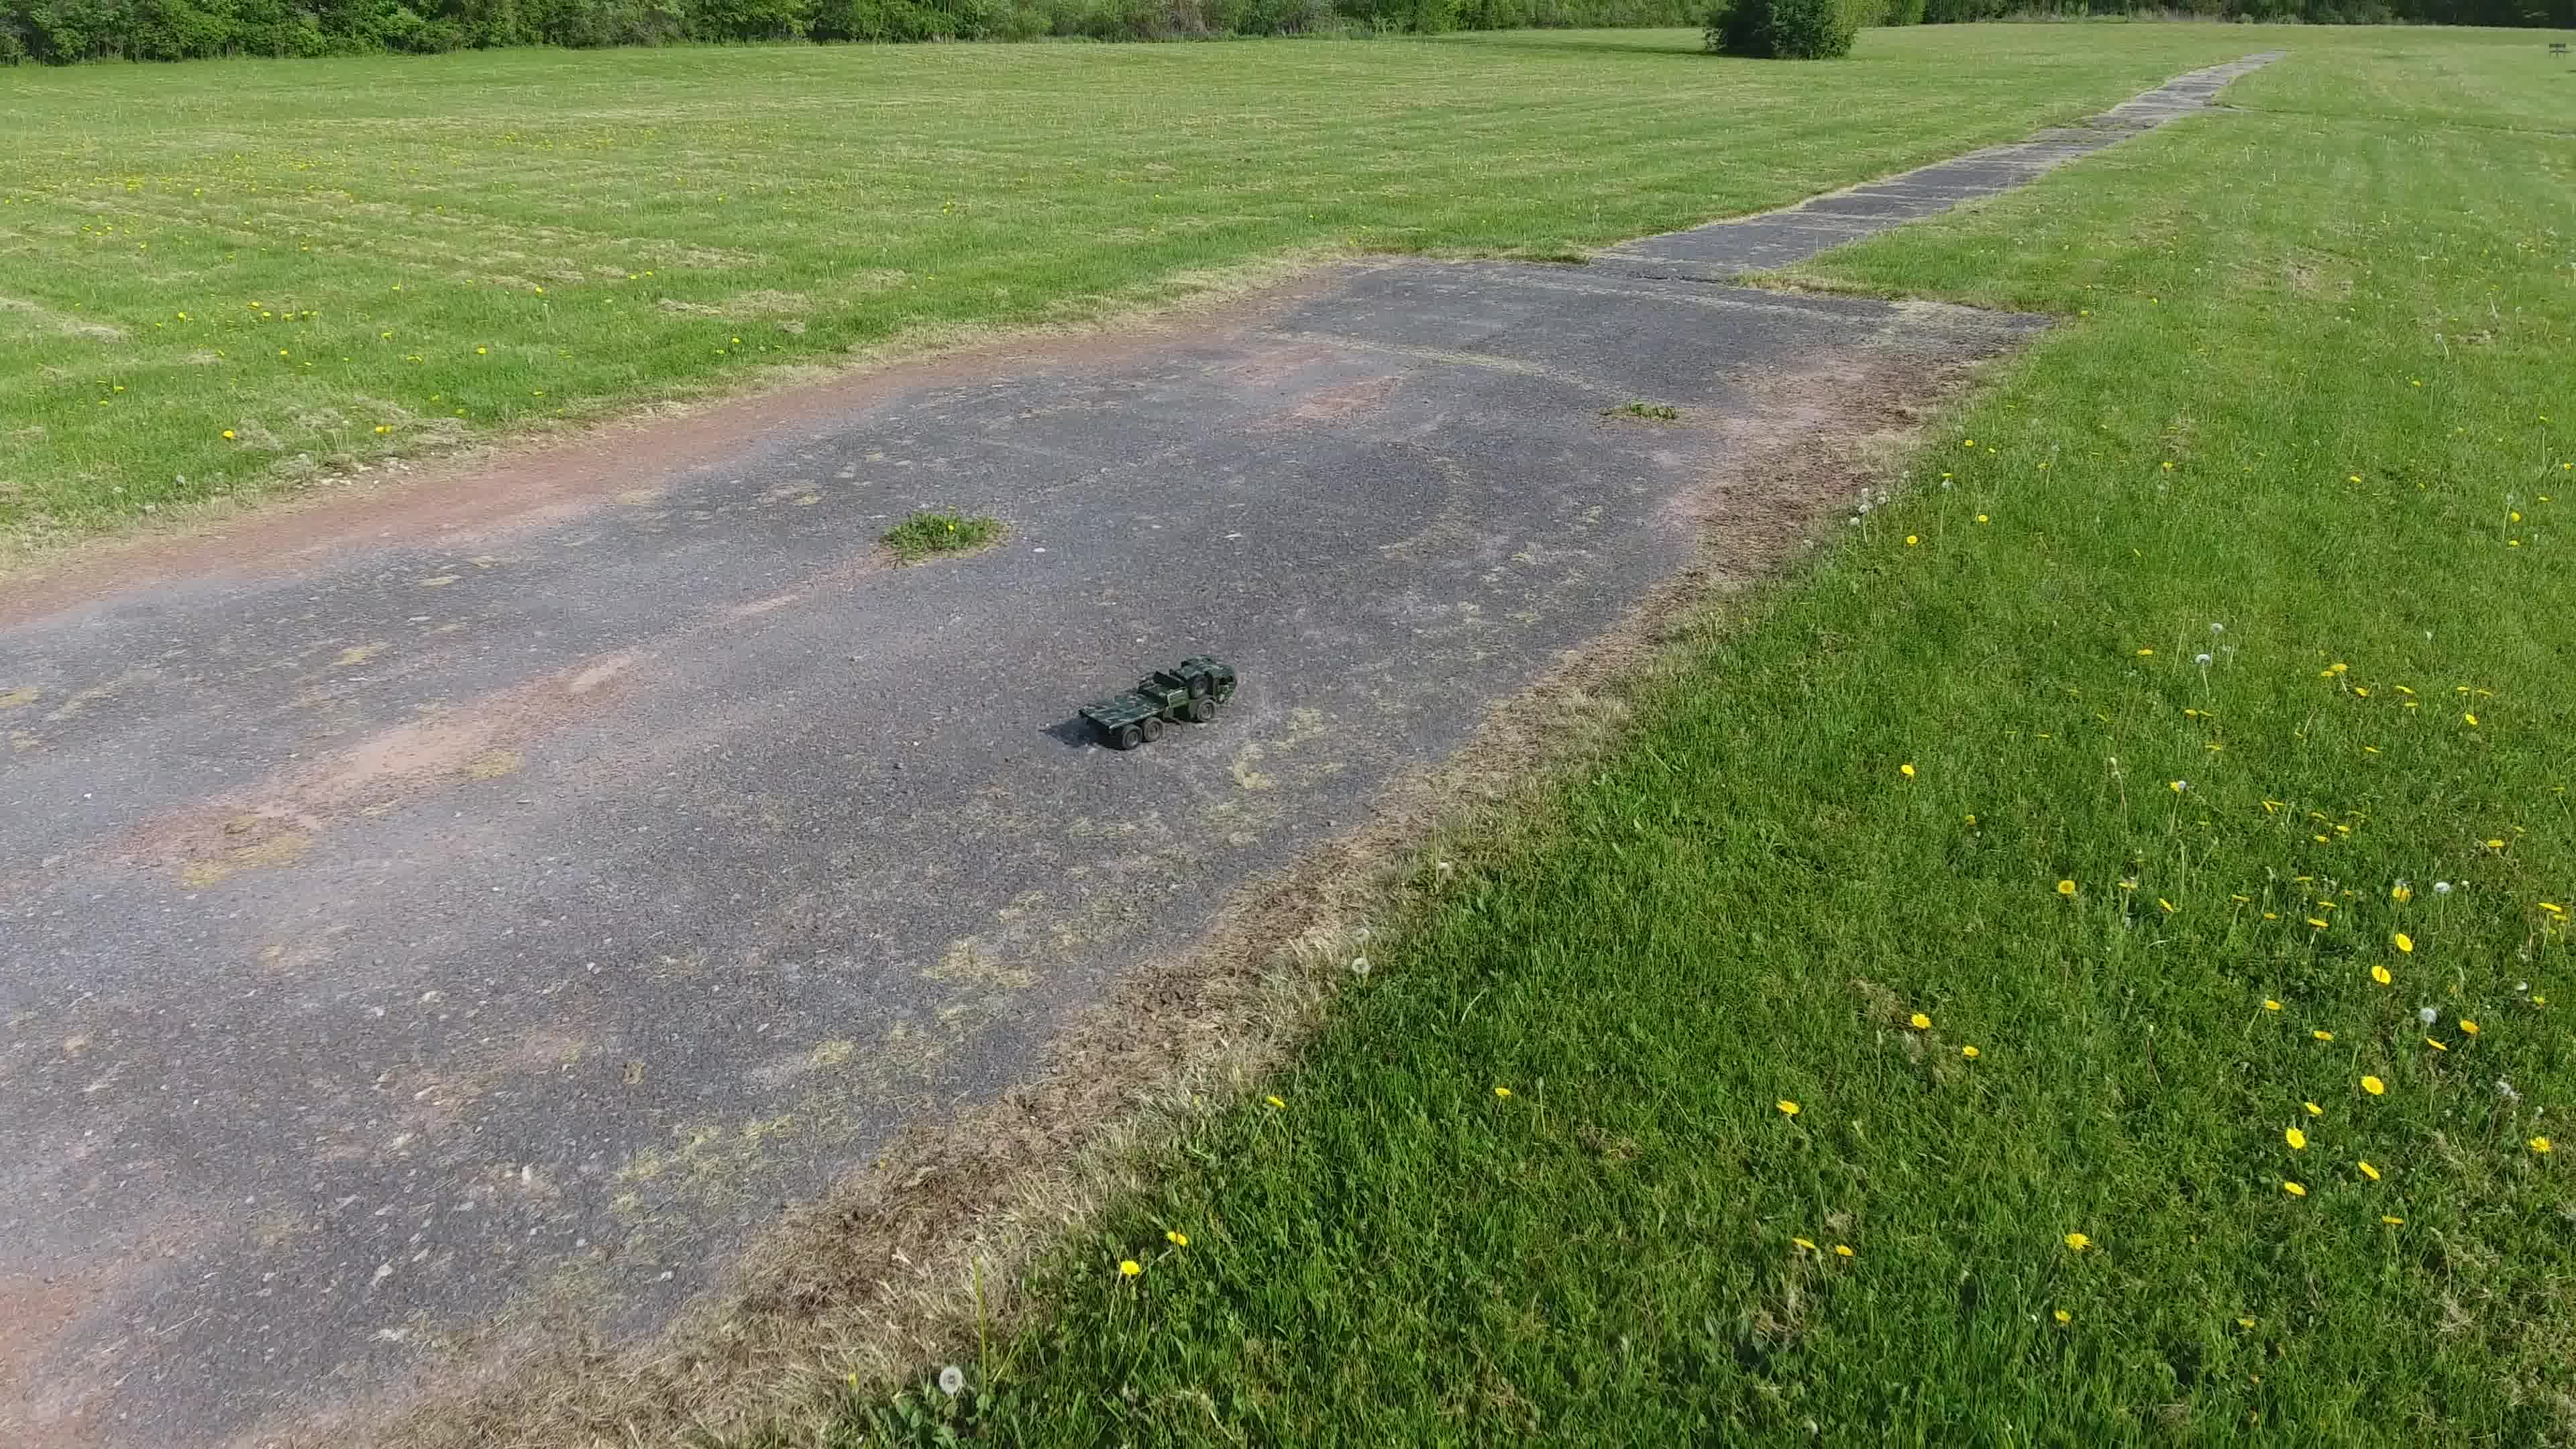transporter9: (1072, 656, 1242, 754)
